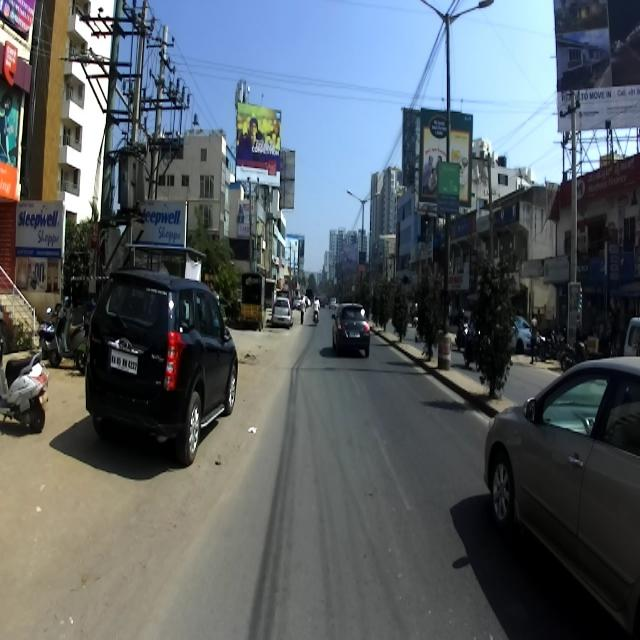Car: (482, 353, 640, 638)
Car_Mahindra: (85, 266, 238, 468)
Car_Maruti-Suzuki: (331, 299, 370, 358)
Car_TATA: (271, 298, 292, 328)
scooter: (0, 340, 49, 434), (48, 295, 94, 372)
